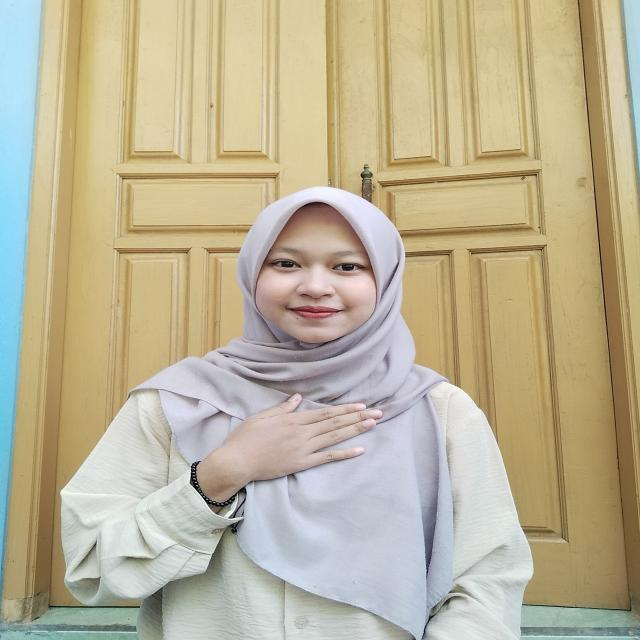tolong: (124, 385, 382, 541)
